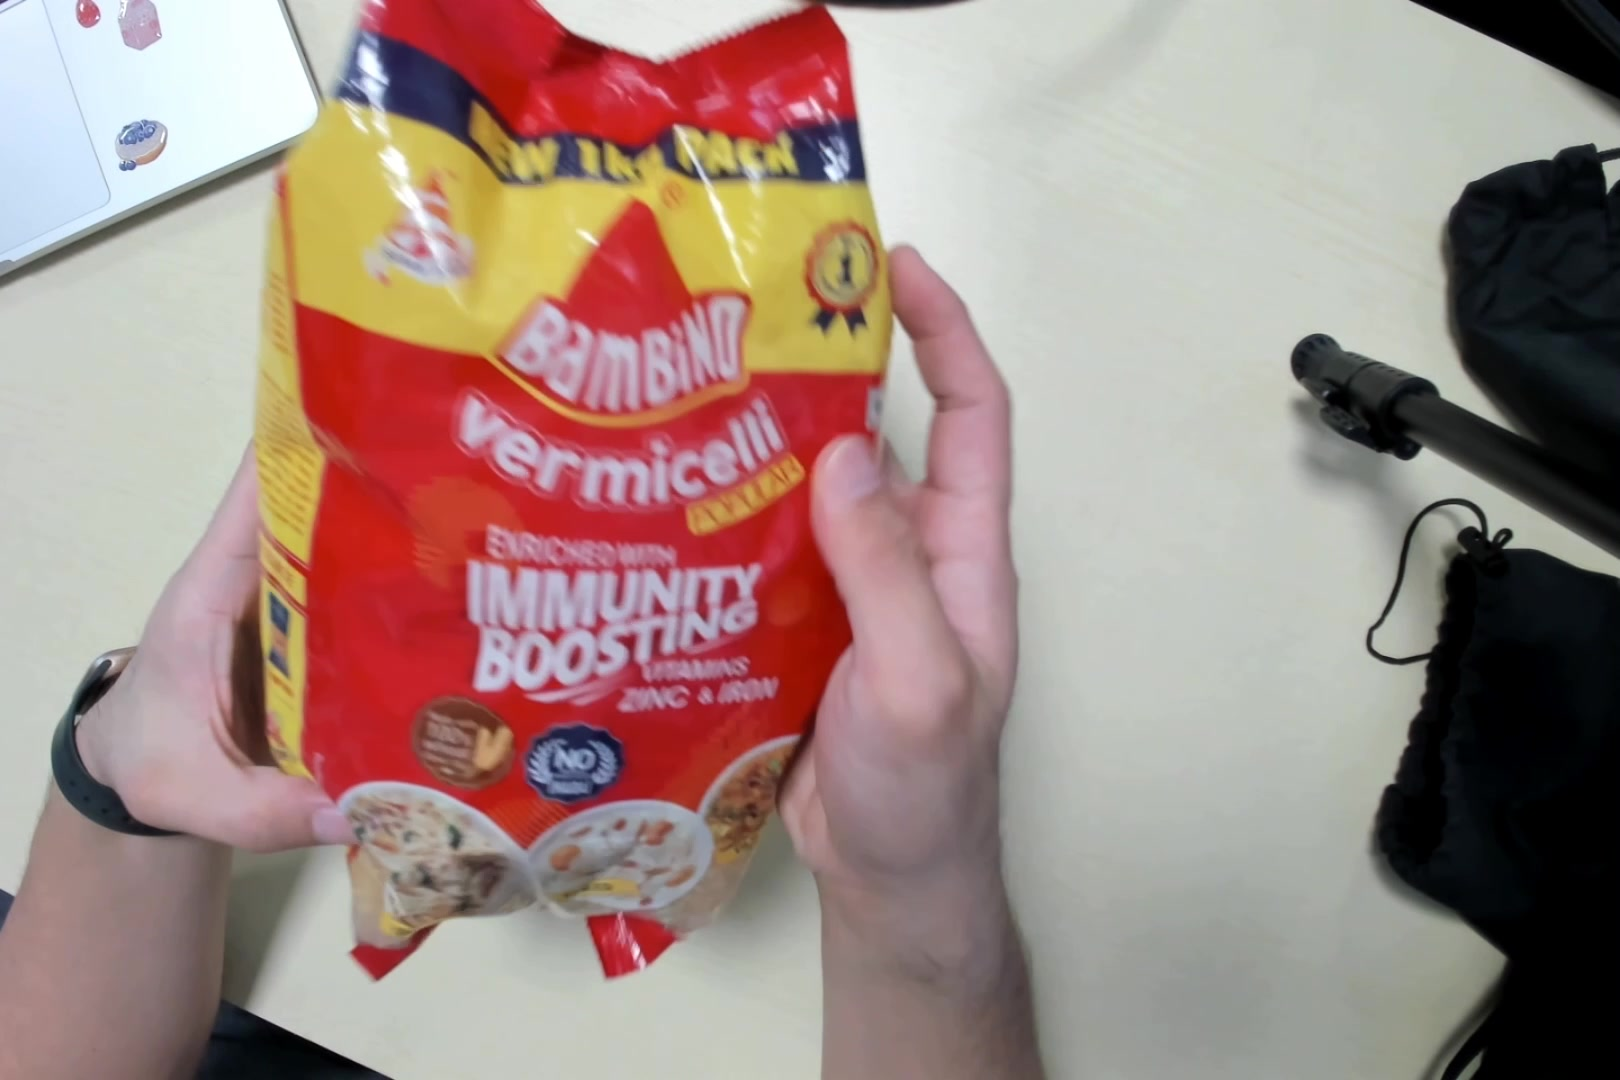OtherNoodles_300-399g_Halal_NonHealthy: (256, 25, 884, 947)
